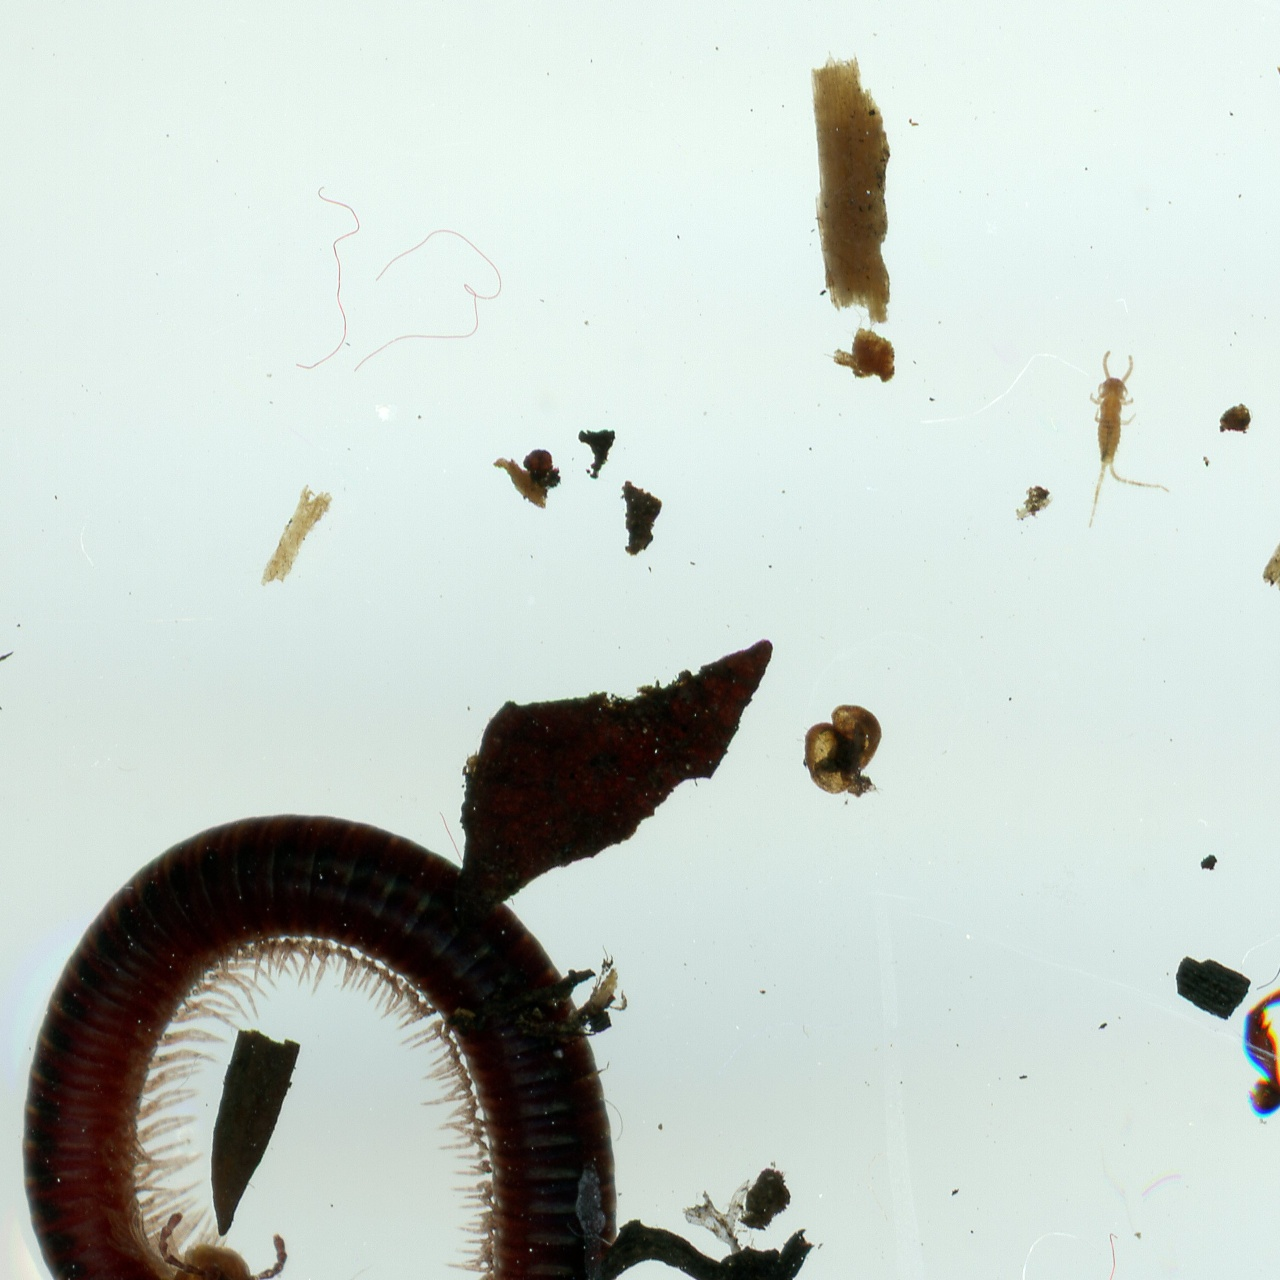arthropod: (11, 802, 628, 1280), (1080, 348, 1180, 535)
